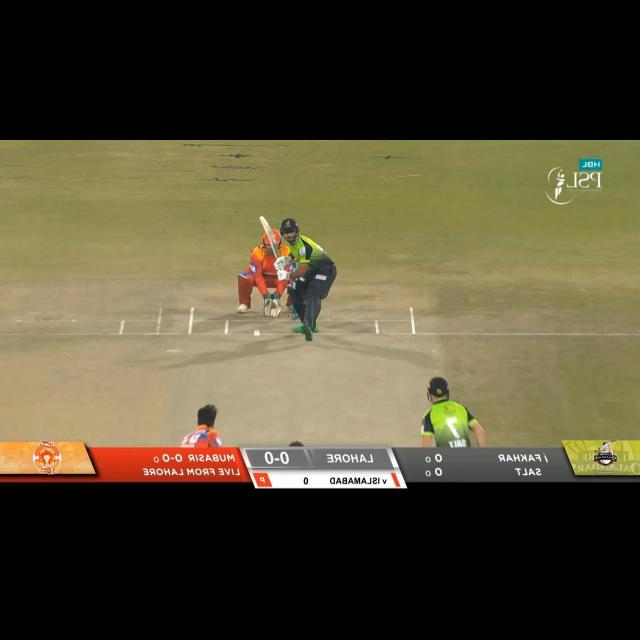bat: (258, 216, 280, 260)
toe: (256, 215, 270, 228)
